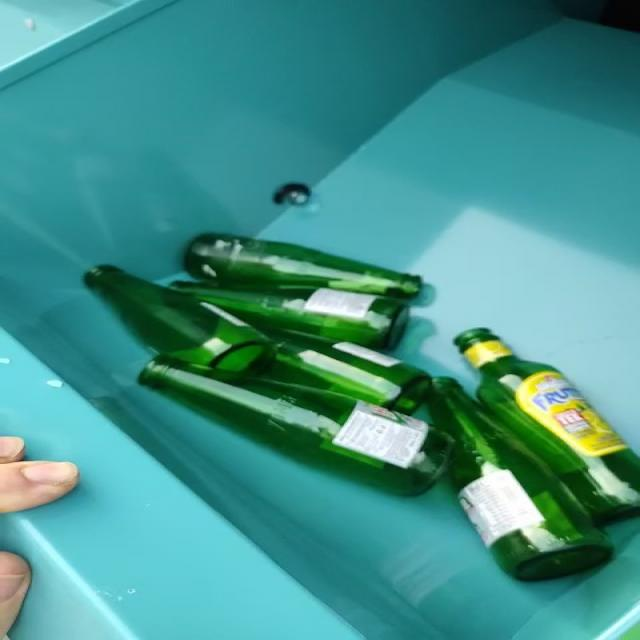glass: (85, 235, 640, 581)
